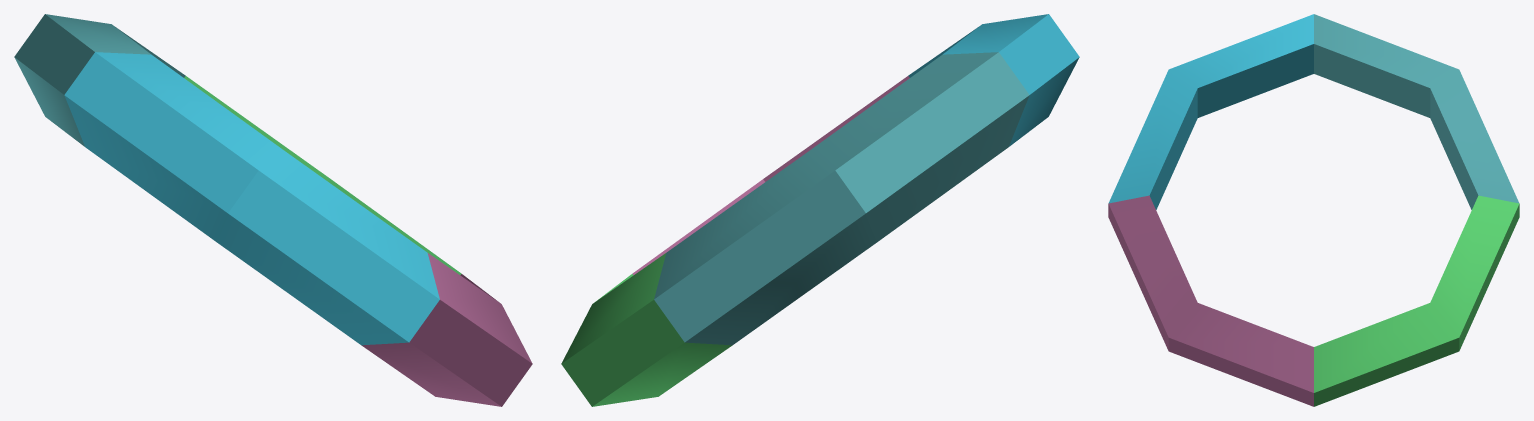
Rendered from healthbar.fbx.
3 renders of one model, left to right at view 1: azimuth 30°, elevation 25°; view 2: azimuth 150°, elevation 25°; view 3: azimuth 270°, elevation 25°, orthographic. The views are drawn at different scales.
Visible parts, largest first — view 1: pPipe1; view 2: pPipe1; view 3: pPipe1.
Part boxes in pixels (<box>): pPipe1: <box>14,14,532,406</box>; pPipe1: <box>561,14,1079,406</box>; pPipe1: <box>1108,14,1519,406</box>.
Size of the model in its own units: 0.7677 by 0.7081 by 0.9607.
